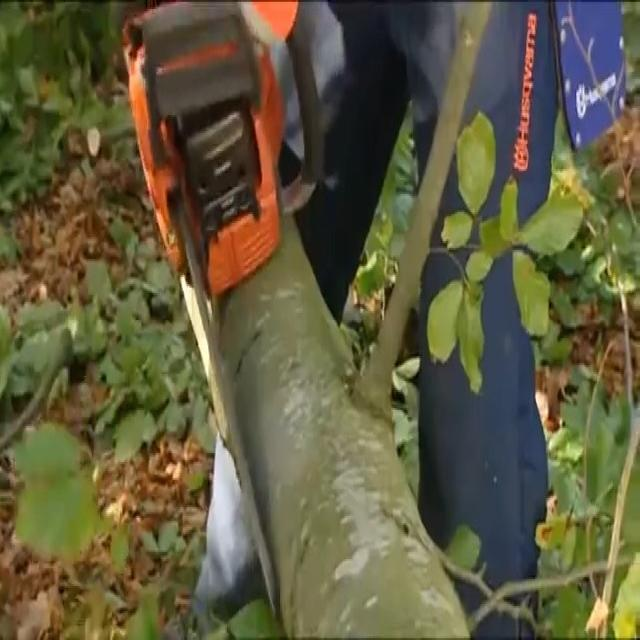Chainsaw: (132, 0, 342, 600)
